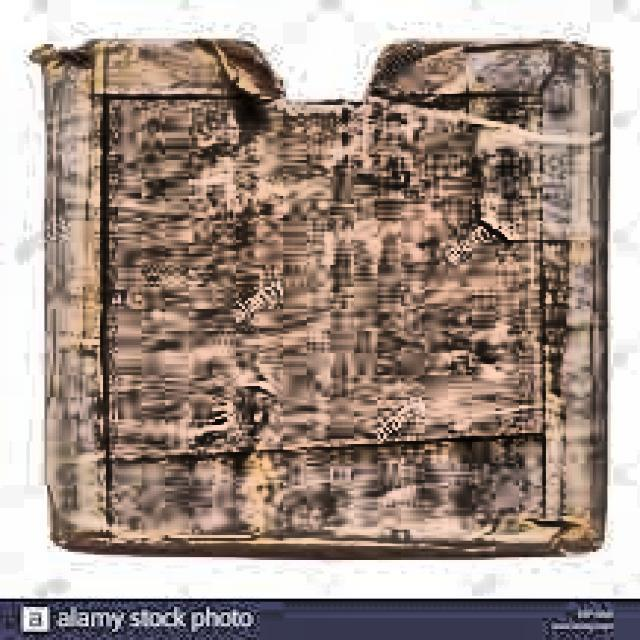cardboard: (29, 33, 610, 557)
